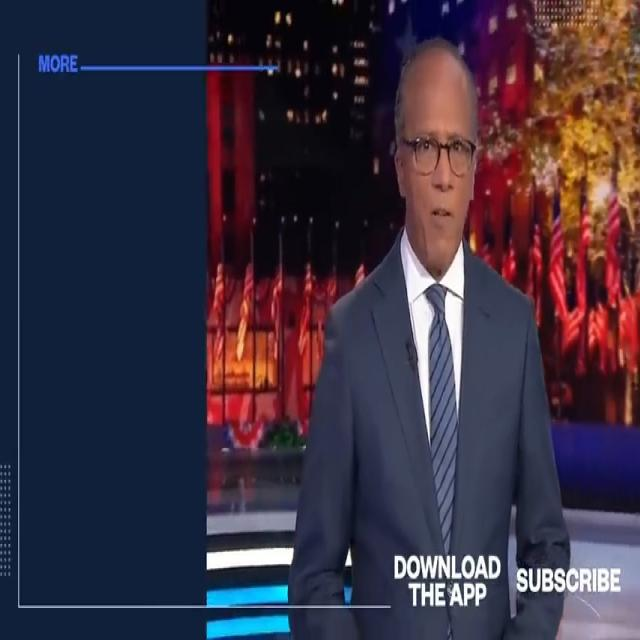non-fight: (284, 36, 596, 640)
